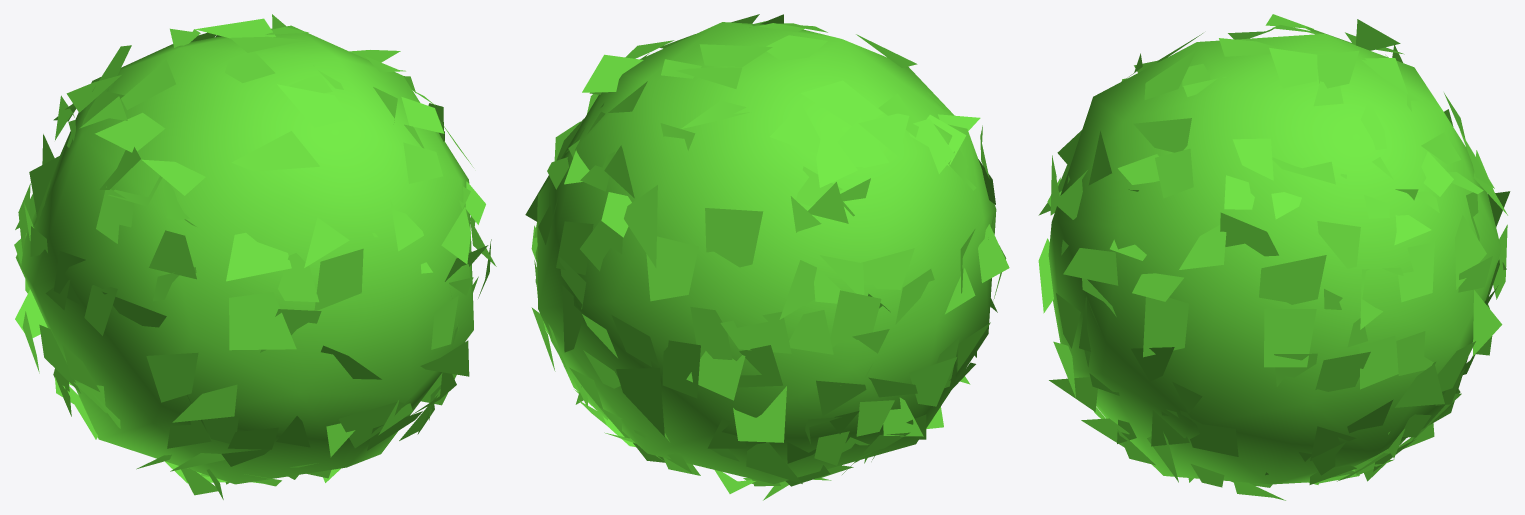
Rendered from Bush1.fbx.
The picture shows the model from 3 angles, left to right: view 1: azimuth 30°, elevation 25°; view 2: azimuth 150°, elevation 25°; view 3: azimuth 270°, elevation 25°; orthographic projection.
Parts seen in each view (by area): view 1: Cube; view 2: Cube; view 3: Cube.
Boxes of the visible parts, bbox=[...] form: Cube: bbox=[14, 14, 496, 499]; Cube: bbox=[525, 14, 1009, 500]; Cube: bbox=[1038, 14, 1510, 500].
Bounding box in the file's own units: 283 × 276 × 277.
